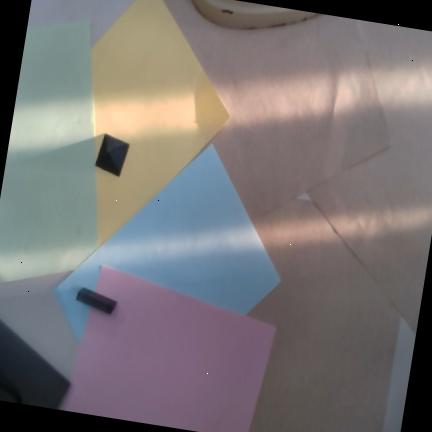Paralelepipedo: (76, 287, 117, 315)
Piramide: (95, 133, 130, 177)
